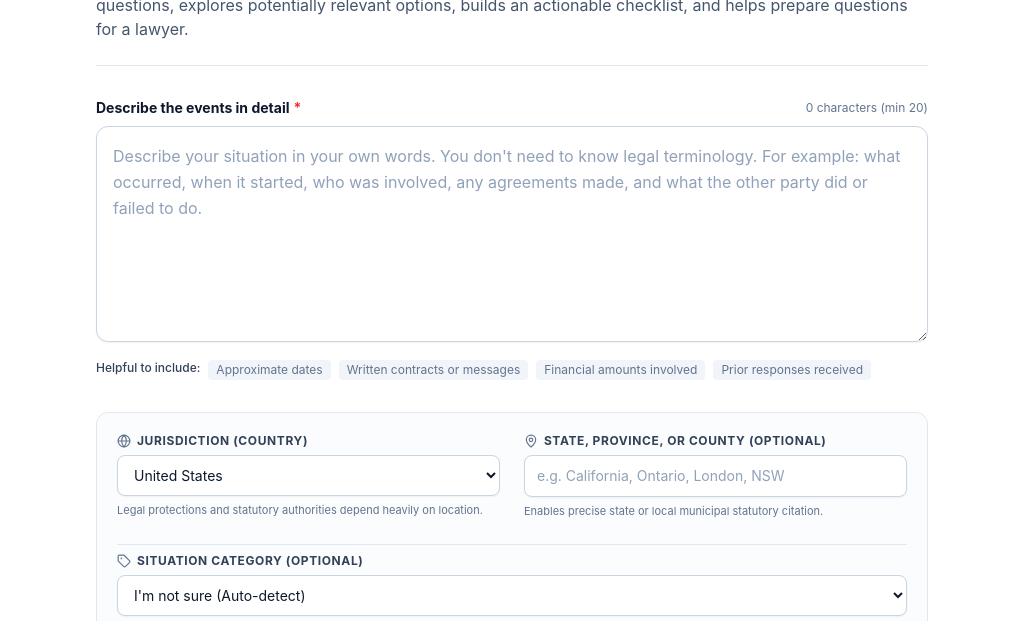
Test case: IntakePage › displays validation error if narrative is shorter than 20 characters
Too short
Replace the text in the text box labelled "Describe the events in detail *" with "Too short" at (512, 234), box [96,126,928,342]
(page scrolled)
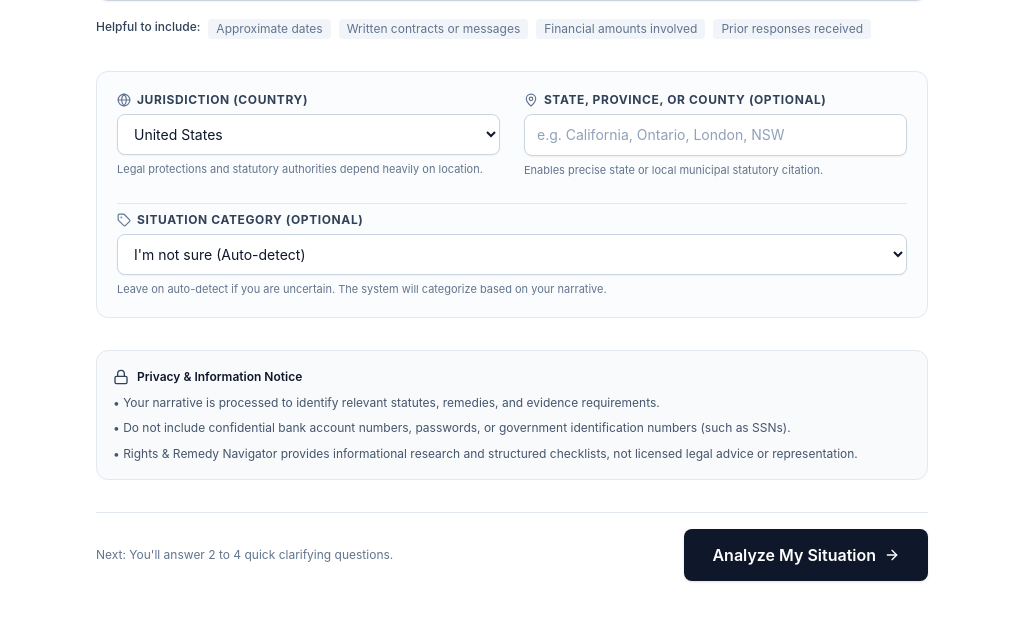
Click the button "Analyze My Situation" at (806, 555), box [684,529,928,581]
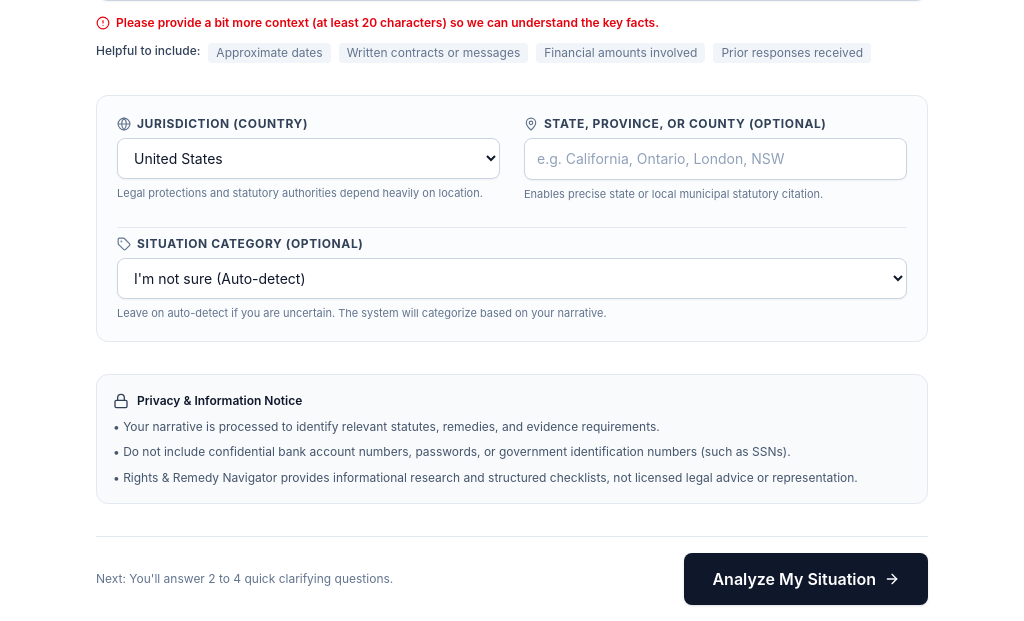
Expected: the text "Please provide a bit more context (at least 20 characters)" is shown, [116,15,659,30]
